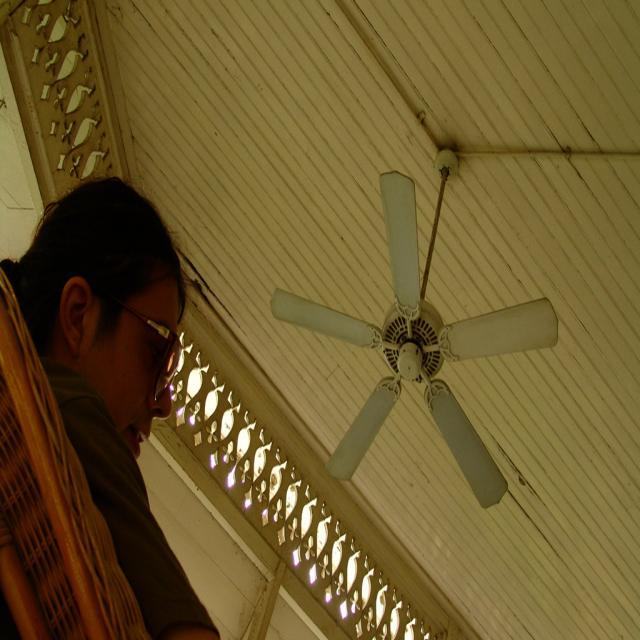fan_off: (270, 172, 563, 504)
